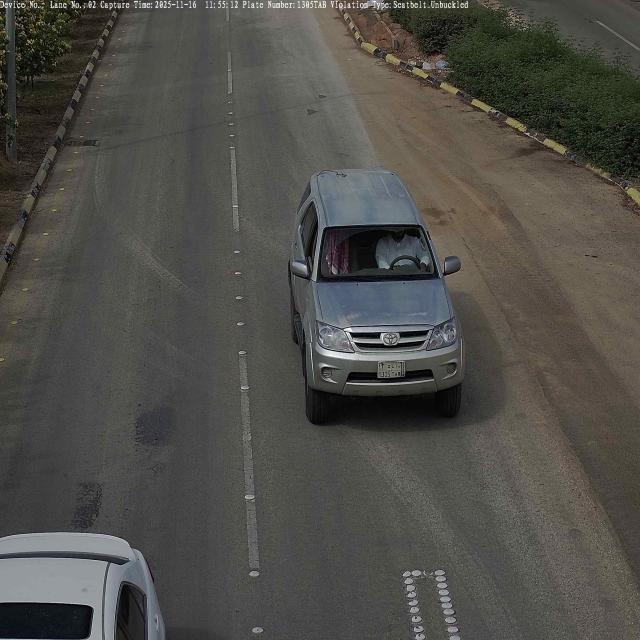person_without_seatbelt: (377, 222, 426, 276)
